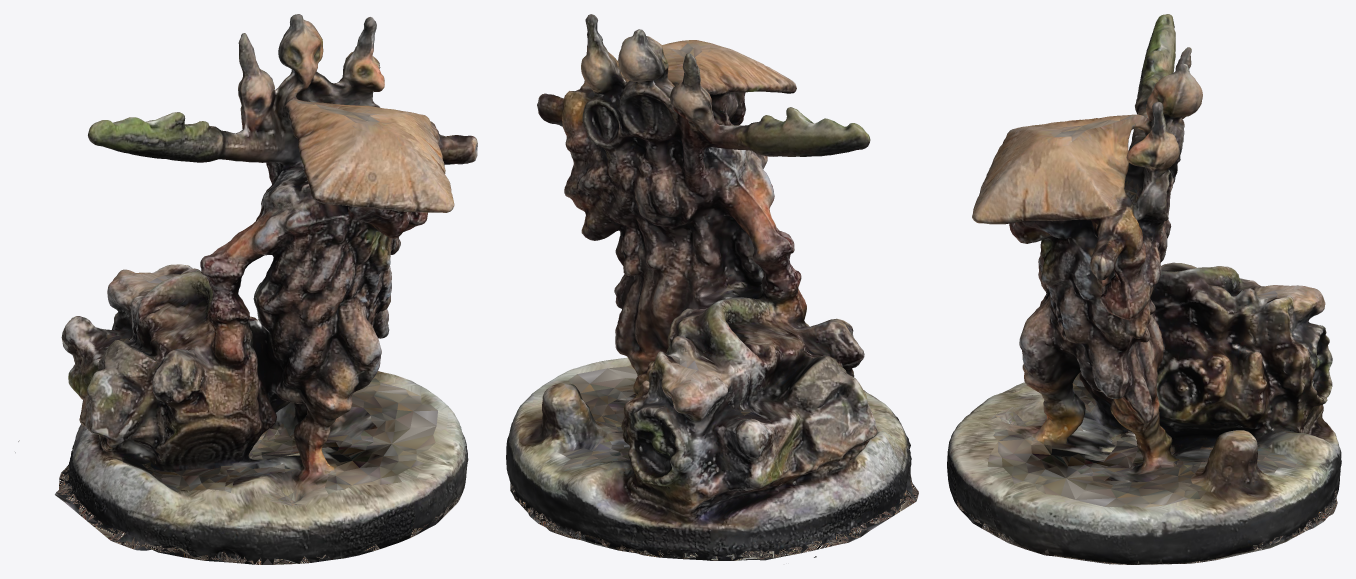
The model's file is Trap.glb.
The picture shows the model from 3 angles, left to right: view 1: azimuth 30°, elevation 25°; view 2: azimuth 150°, elevation 25°; view 3: azimuth 270°, elevation 25°; orthographic projection.
Parts seen in each view (by area): view 1: trapper; view 2: trapper; view 3: trapper.
Part boxes in pixels (left/top/right/bottom): trapper: left=15, top=14, right=477, bottom=564; trapper: left=506, top=14, right=918, bottom=560; trapper: left=947, top=14, right=1341, bottom=564.
Bounding box in the file's own units: 5.16 × 5.89 × 4.75.
1 material, 1 textured.
